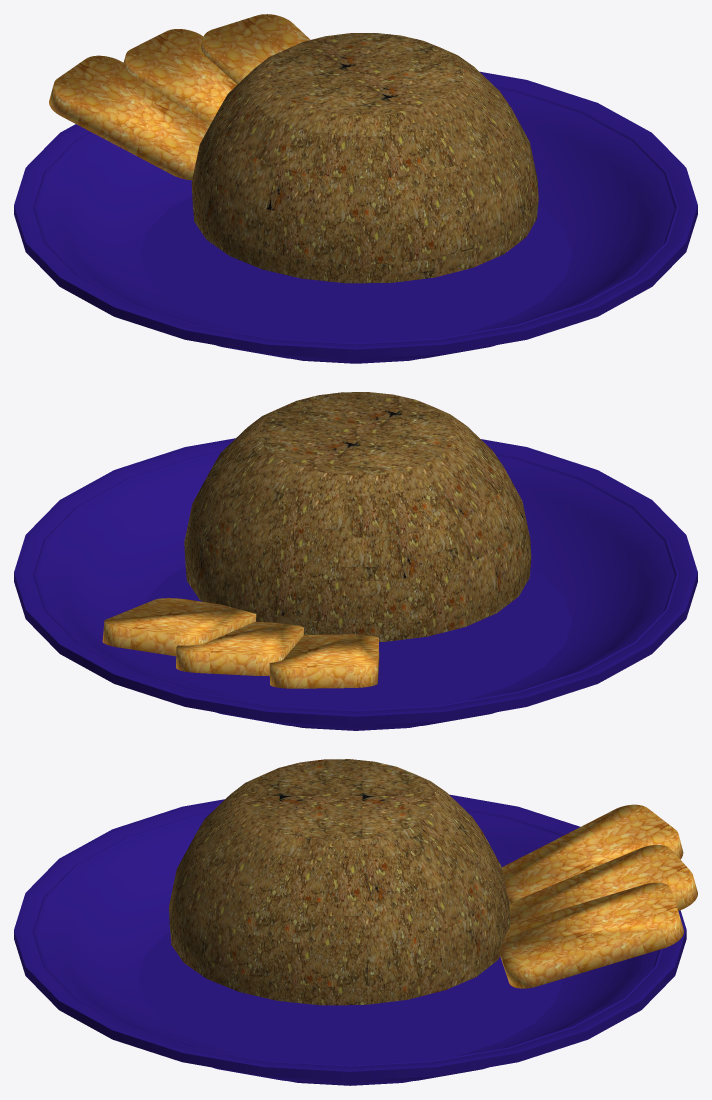
Rendered from Nasgor tempe.fbx.
The picture shows the model from 3 angles, top to bottom: view 1: azimuth 30°, elevation 25°; view 2: azimuth 150°, elevation 25°; view 3: azimuth 270°, elevation 25°; orthographic projection.
Parts seen in each view (by area): view 1: piring, rice, Tempe.001, Tempe.007, Tempe.002; view 2: piring, rice, Tempe.002, Tempe.001, Tempe.007; view 3: piring, rice, Tempe.002, Tempe.001, Tempe.007.
Part boxes in pixels (box(x1,y1,x2,y2)): piring: box(14, 71, 697, 363); rice: box(191, 33, 538, 283); Tempe.001: box(49, 55, 209, 180); Tempe.007: box(123, 29, 236, 124); Tempe.002: box(201, 14, 310, 84); piring: box(14, 438, 697, 730); rice: box(184, 392, 531, 641); Tempe.002: box(102, 598, 256, 656); Tempe.001: box(269, 634, 379, 688); Tempe.007: box(176, 621, 303, 675); piring: box(14, 794, 686, 1085); rice: box(169, 759, 509, 1005); Tempe.002: box(498, 882, 684, 988); Tempe.001: box(501, 804, 683, 905); Tempe.007: box(509, 845, 697, 925).
Bounding box in the file's own units: 9706 × 3223 × 9870.
